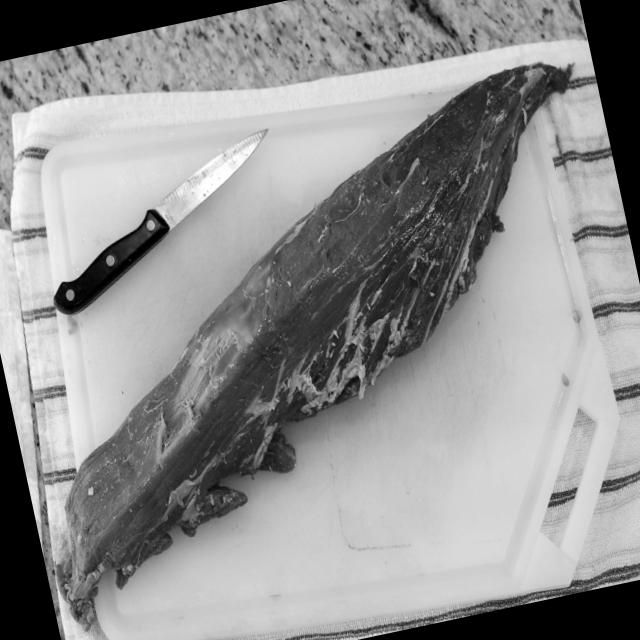thit than: (0, 75, 616, 637)
